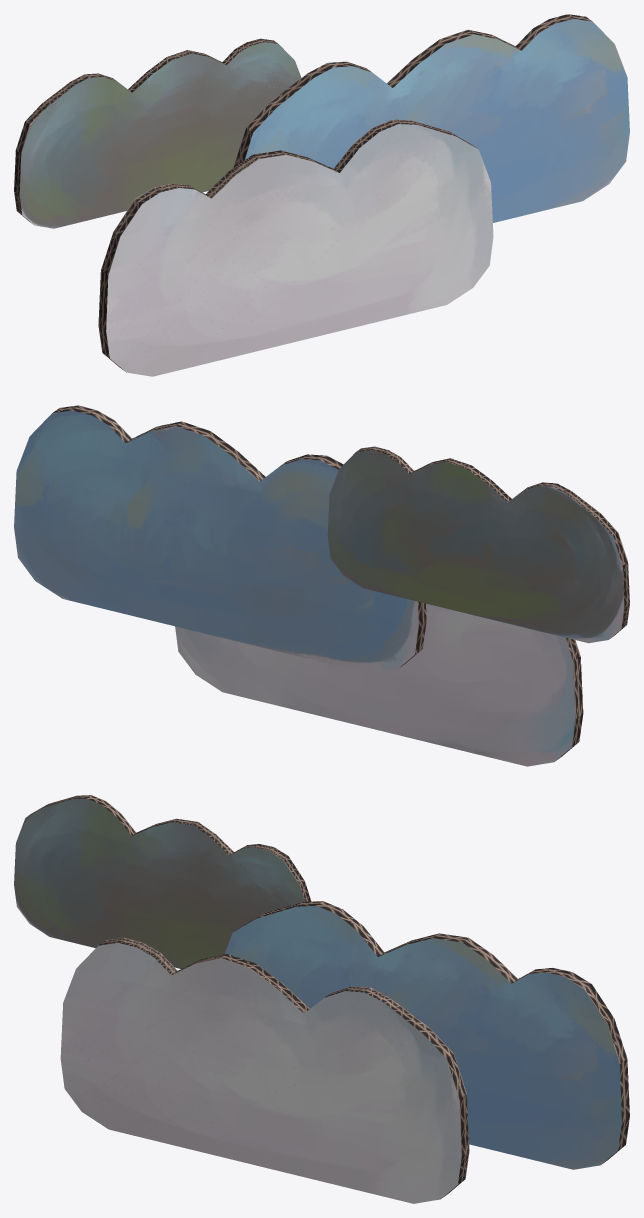
Rendered from PaperClouds.fbx.
3 renders of one model, top to bottom at view 1: azimuth 30°, elevation 25°; view 2: azimuth 150°, elevation 25°; view 3: azimuth 330°, elevation 25°, orthographic. The views are drawn at different scales.
Parts seen in each view (by area): view 1: cloud1, cloud3, cloud2; view 2: cloud3, cloud2, cloud1; view 3: cloud1, cloud3, cloud2.
Part boxes in pixels (bbox=[...]): cloud1: bbox=[98, 119, 493, 376]; cloud3: bbox=[233, 14, 629, 222]; cloud2: bbox=[14, 38, 301, 228]; cloud3: bbox=[14, 405, 426, 673]; cloud2: bbox=[327, 446, 629, 643]; cloud1: bbox=[175, 603, 583, 766]; cloud1: bbox=[60, 937, 469, 1203]; cloud3: bbox=[225, 901, 629, 1169]; cloud2: bbox=[14, 795, 311, 968].
Bounding box in the file's own units: 4849 × 2274 × 370.
Materials: 3 (3 with a texture image).
